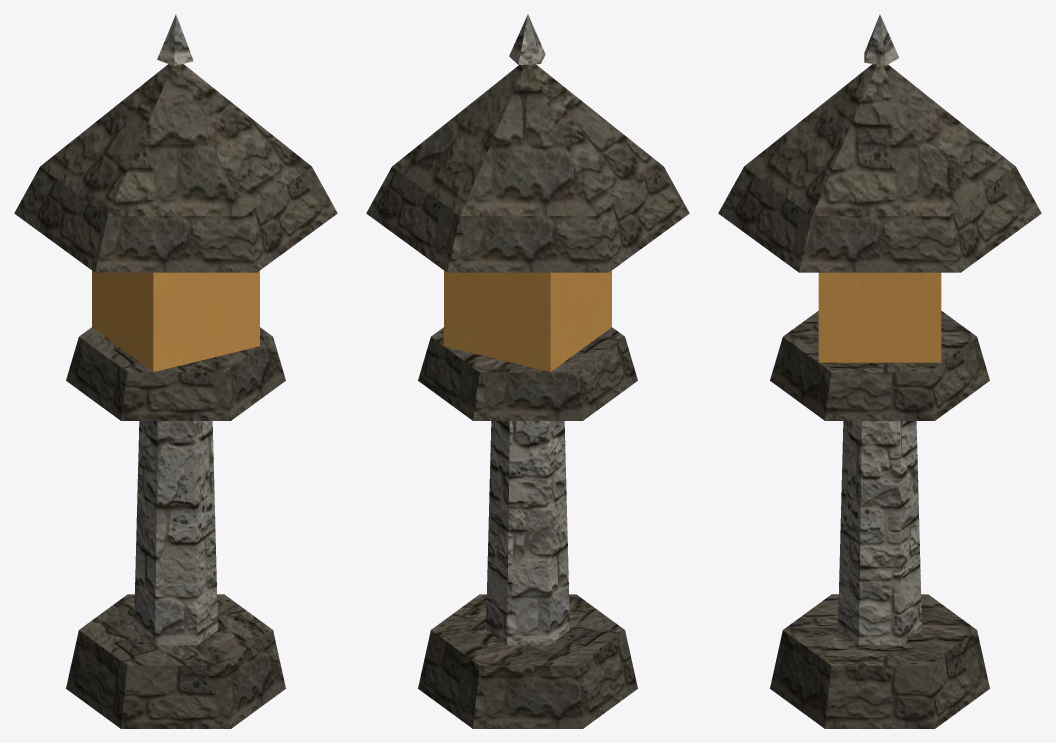
The model's file is stone_lantern_01.glb.
The picture shows the model from 3 angles, left to right: view 1: azimuth 30°, elevation 25°; view 2: azimuth 150°, elevation 25°; view 3: azimuth 270°, elevation 25°; orthographic projection.
Parts seen in each view (by area): view 1: stone_lantern_01; view 2: stone_lantern_01; view 3: stone_lantern_01.
Boxes of the visible parts, x1=… form: stone_lantern_01: x1=14, y1=14, x2=337, y2=728; stone_lantern_01: x1=366, y1=14, x2=689, y2=728; stone_lantern_01: x1=718, y1=14, x2=1041, y2=728.
Bounding box in the file's own units: 0.866 × 2.3 × 0.9999.
3 materials, 3 textured.
